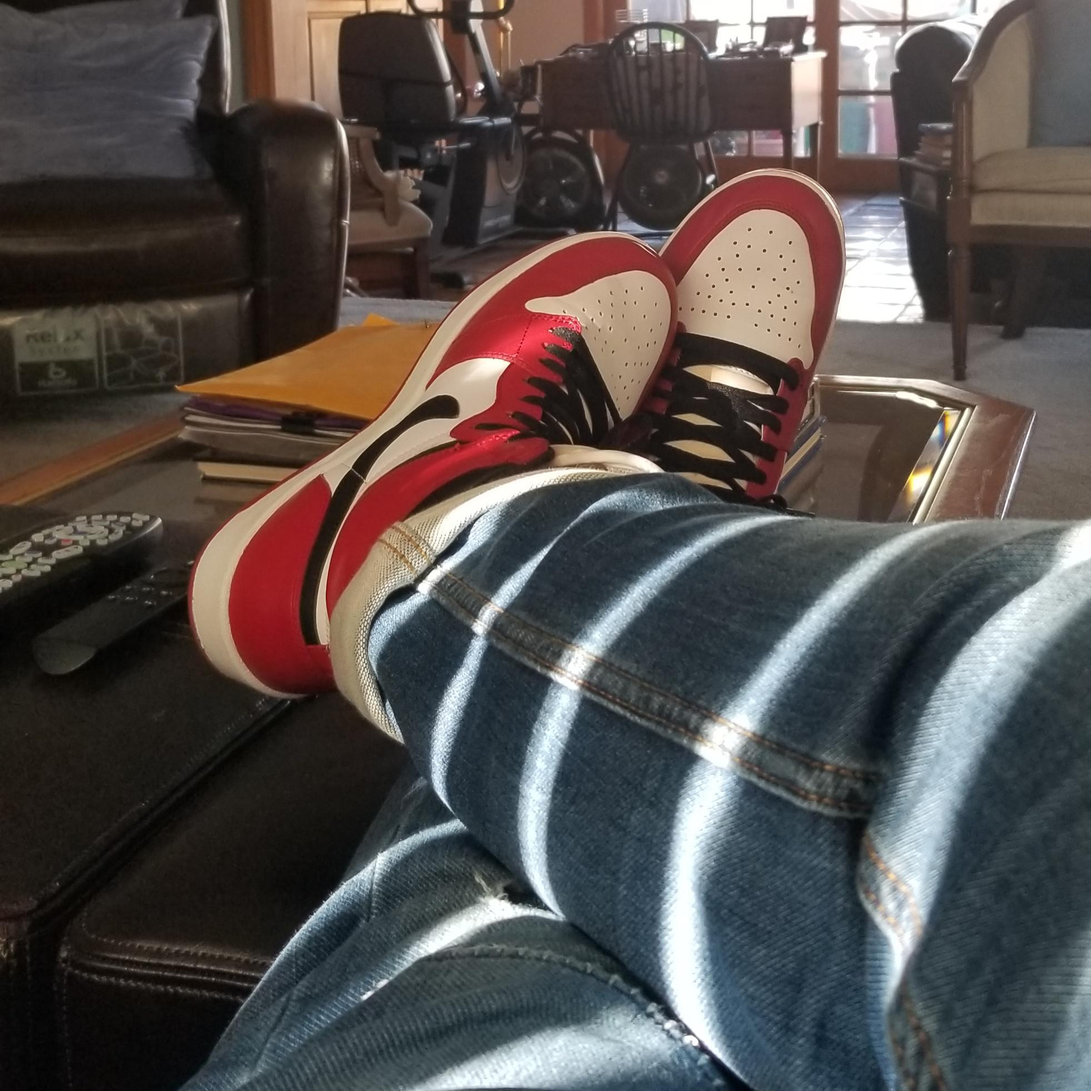sneaker: (154, 203, 690, 712), (660, 160, 858, 545)
